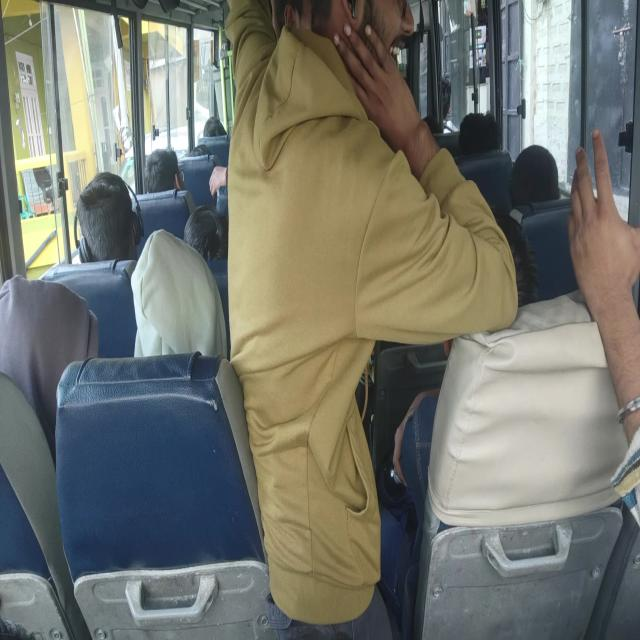person: (226, 12, 418, 382), (564, 119, 640, 459), (0, 285, 80, 425), (452, 213, 536, 338), (134, 254, 223, 360), (76, 176, 134, 250), (512, 147, 562, 203), (181, 203, 223, 266), (140, 155, 185, 209), (456, 109, 501, 155), (201, 112, 229, 141)
